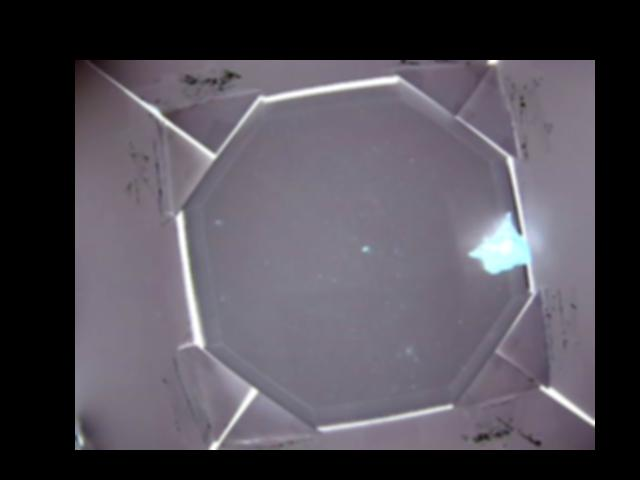Brisk: (469, 210, 532, 273)
